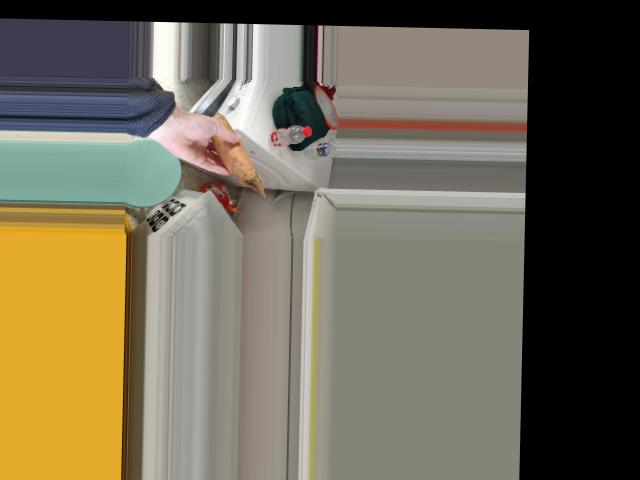sweet_potato: (211, 127, 256, 174)
